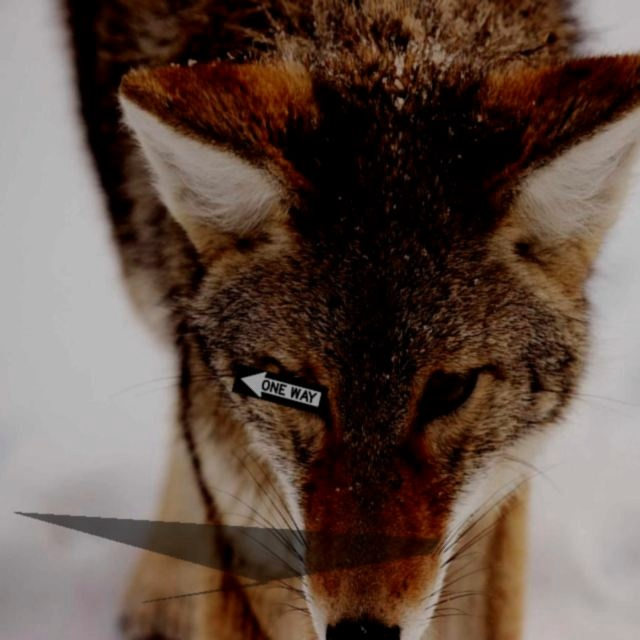ONE_WAY_ left: (231, 363, 329, 416)
